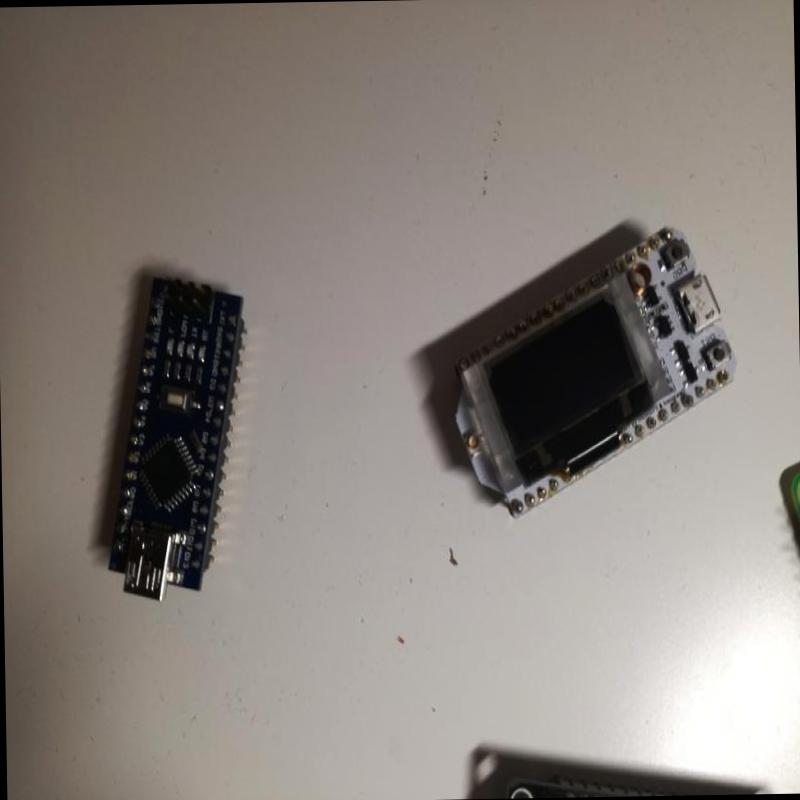Arduino_Nano: (89, 266, 255, 609)
Heltec_ESP32_Lora: (447, 211, 742, 523)
